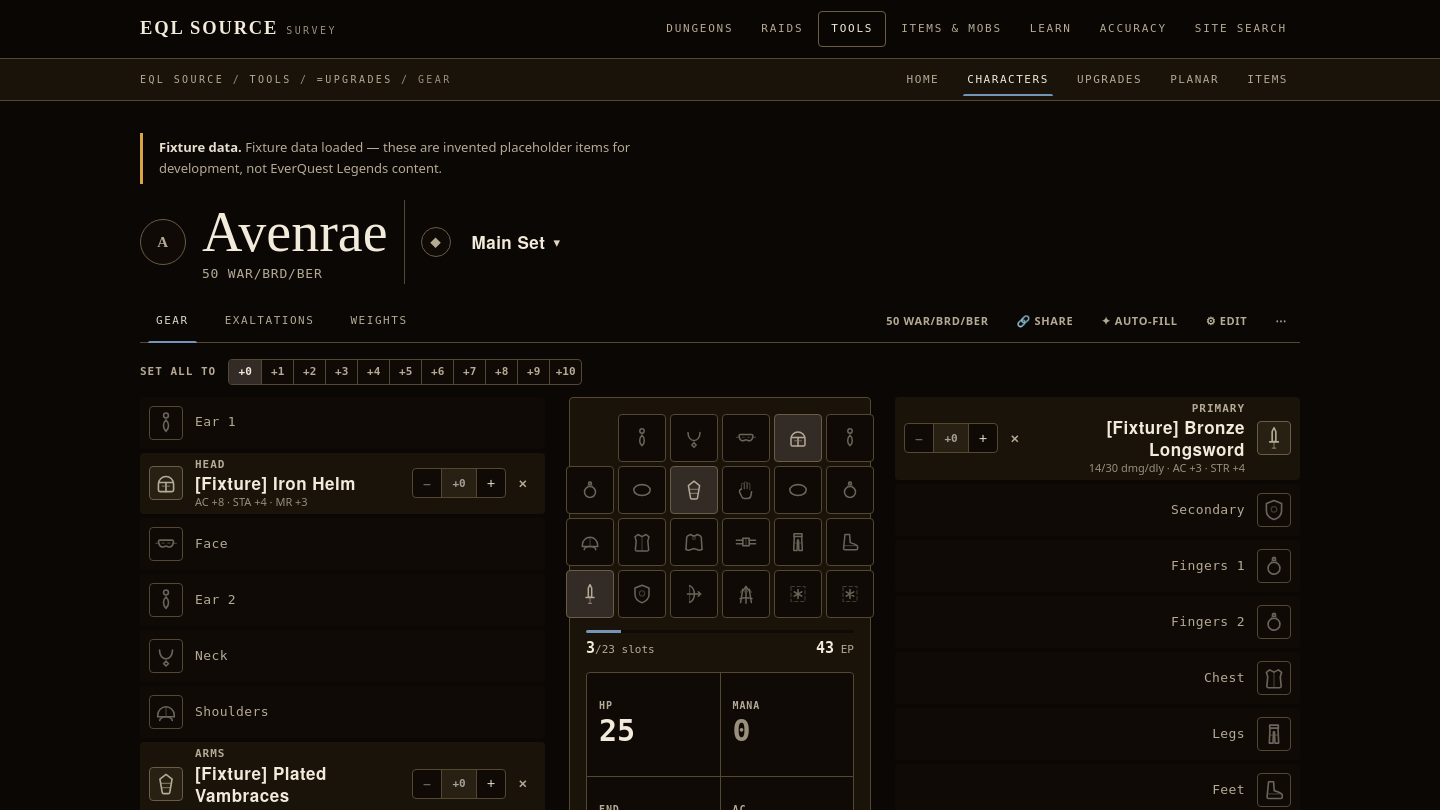
the bulk +N strip › moves the stat panel with it
Click the button "+10". click: (565, 372)
box: [549,360,581,384]
(page scrolled)
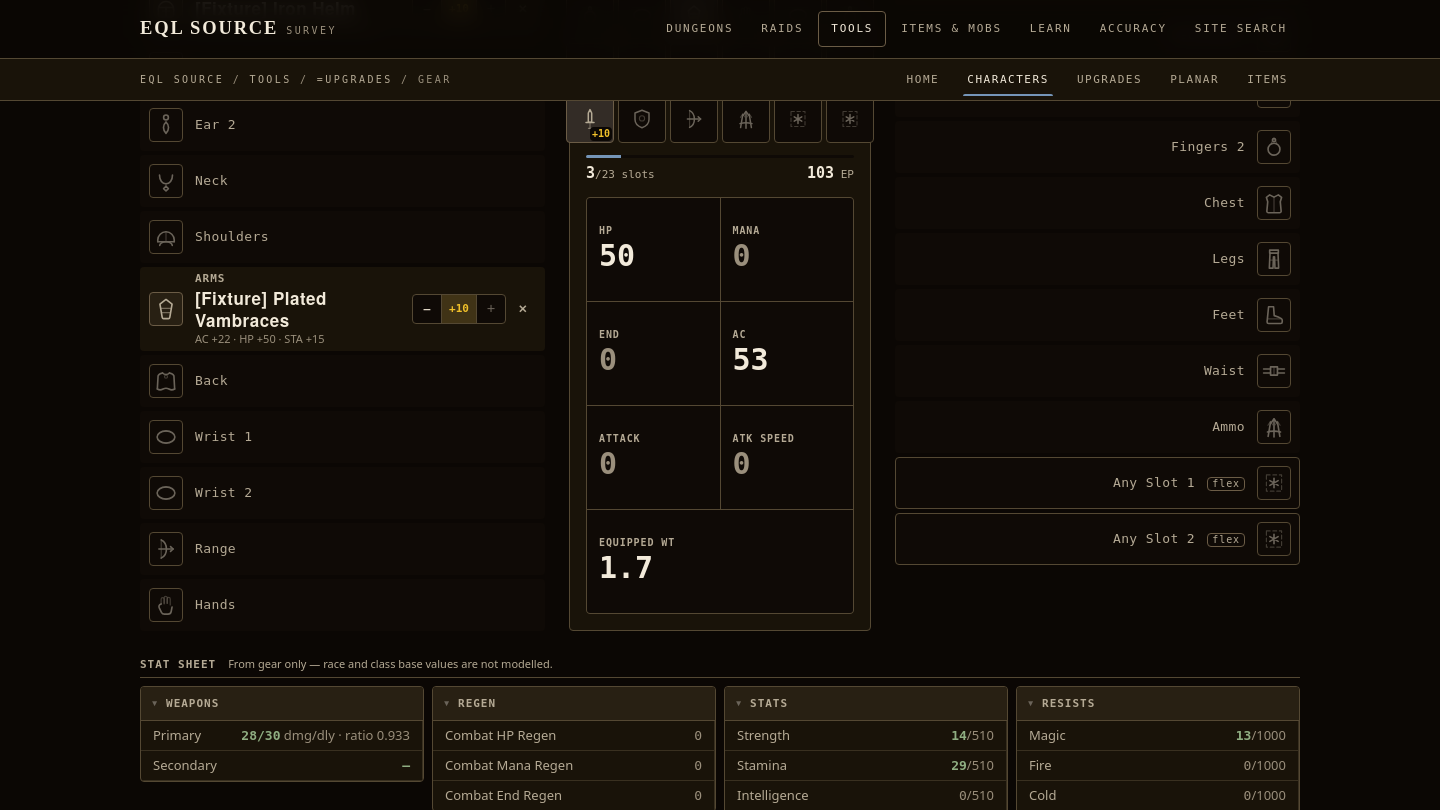
Expected: the element that starts with "Mana" shows "53", [732,342,769,376]
